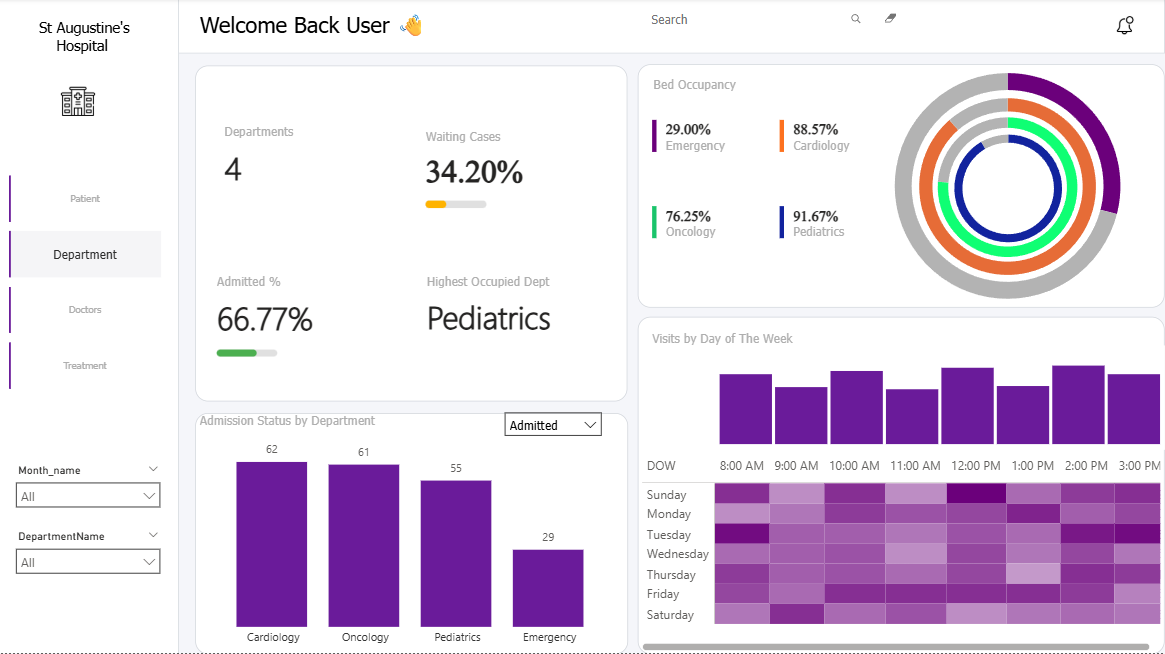

The dashboard page shown, as its layout file describes it:
{"tool":"powerbi","page":{"name":"Department","canvas":[1280,720],"ordinal":1},"visuals":[{"type":"shape","box":[215.4,74.1,474.8,369.1],"z":0},{"type":"shape","box":[215.2,455.3,475.2,265],"z":1000},{"type":"shape","box":[701.6,349.6,578.4,370.7],"z":2000},{"type":"shape","box":[0,0,1280,61],"z":3000},{"type":"shape","box":[0,0,197.6,720.4],"z":4000},{"type":"textbox","box":[215.2,8.7,571,43.5],"z":5000},{"type":"textbox","box":[23.6,17.4,140.6,70.9],"z":6000},{"type":"pageNavigator","box":[11,194.9,167.4,236],"z":7000},{"type":"clusteredColumnChart","fields":{"Y":["CountNonNull(FactTable.VisitID)"],"Category":["FactTable.Fomatted Hour"]},"box":[786.2,381.9,493.9,114.4],"z":8000},{"type":"cardVisual","fields":{"Data":["CountNonNull(Department_Dim.DepartmentID)"]},"box":[230.5,87.8,211.3,171.5],"z":9000},{"type":"cardVisual","fields":{"Data":["Calculations.Waiting %"]},"box":[451.6,103.2,220.2,170.4],"z":10000},{"type":"cardVisual","fields":{"Data":["Min(Department_Dim.DepartmentName)"]},"box":[452.8,256.3,220.2,161.7],"z":11000},{"type":"cardVisual","fields":{"Data":["Calculations.Admitted %"]},"box":[222.3,269,219.6,161.9],"z":12000},{"type":"textbox","box":[711.5,359.5,165.4,43.5],"z":13000},{"type":"shape","box":[701.6,73.4,578.4,267.5],"z":14000},{"type":"columnChart","title":"Admission Status by Department","fields":{"Y":["CountNonNull(FactTable.VisitID)"],"Category":["Department_Dim.DepartmentName"]},"box":[215.2,455.3,475.2,265],"z":15000},{"type":"slicer","fields":{"Values":["FactTable.AdmissionStatus"]},"box":[544.9,444.1,126.9,41.1],"z":16000},{"type":"pivotTable","fields":{"Rows":["Calendar.DOW"],"Values":["CountNonNull(FactTable.VisitID)"],"Columns":["FactTable.Fomatted Hour"]},"box":[701.6,496.3,578.4,225.2],"z":17000},{"type":"donutChart","fields":{"Y":["Calculations.Admitted %","Calculations.Admitted % diff"]},"box":[934.5,46.7,345.8,319.7],"z":17750},{"type":"donutChart","fields":{"Y":["Calculations.Admitted %","Calculations.Admitted % diff"]},"box":[961.9,81,290.9,252.5],"z":18500},{"type":"donutChart","fields":{"Y":["Calculations.Admitted %","Calculations.Admitted % diff"]},"box":[1000.3,107,214.1,201.7],"z":20000},{"type":"donutChart","fields":{"Y":["Calculations.Admitted %","Calculations.Admitted % diff"]},"box":[1029.2,129,157.8,160.5],"z":21000},{"type":"multiRowCard","fields":{"Values":["Calculations.Admitted %"]},"box":[852.1,129,109.8,65.9],"z":23000},{"type":"multiRowCard","fields":{"Values":["Calculations.Admitted %"]},"box":[712.2,223.7,109.8,65.9],"z":24000},{"type":"multiRowCard","fields":{"Values":["Calculations.Admitted %"]},"box":[852.1,223.7,109.8,65.9],"z":25000},{"type":"image","box":[1220.3,14.9,32.3,29.9],"z":26000},{"type":"textbox","box":[713.6,81,164.7,43.9],"z":27000},{"type":"image","box":[63.4,88.3,47.3,51],"z":28000},{"type":"textFilter25A4896A83E0487089E2B90C9AE57C8A","fields":{"field":["Patient_Dim.PatientID"]},"box":[701.6,0,301,41.1],"z":29000},{"type":"slicer","fields":{"Values":["Calendar.Month_name"]},"box":[8.7,506.3,179.1,58.5],"z":30000},{"type":"slicer","fields":{"Values":["Department_Dim.DepartmentName"]},"box":[8.7,579.7,179.1,58.5],"z":31000},{"type":"multiRowCard","fields":{"Values":["Calculations.Admitted %"]},"box":[712.2,129,109.8,65.9],"z":31500},{"type":"card","fields":{"Values":["Calculations.Total admitted MOM"]},"box":[332.1,368.2,105.7,33.6],"z":31501},{"type":"card","fields":{"Values":["Calculations.Total waiting MOM"]},"box":[562.3,207.7,105.7,33.6],"z":31502}]}

Visuals, with their boxes on the page's 1280x720 design canvas (x1, y1, x2, y2). These are canvas units, not pixel positions in the 1165x654 screenshot, which may show the page scaled, cropped or inside an application window:
shape: [x1=215, y1=74, x2=690, y2=443]
shape: [x1=215, y1=455, x2=690, y2=720]
shape: [x1=702, y1=350, x2=1280, y2=720]
shape: [x1=0, y1=0, x2=1280, y2=61]
shape: [x1=0, y1=0, x2=198, y2=720]
textbox: [x1=215, y1=9, x2=786, y2=52]
textbox: [x1=24, y1=17, x2=164, y2=88]
pageNavigator: [x1=11, y1=195, x2=178, y2=431]
clusteredColumnChart - CountNonNull(FactTable.VisitID) x FactTable.Fomatted Hour: [x1=786, y1=382, x2=1280, y2=496]
cardVisual - CountNonNull(Department_Dim.DepartmentID): [x1=230, y1=88, x2=442, y2=259]
cardVisual - Calculations.Waiting %: [x1=452, y1=103, x2=672, y2=274]
cardVisual - Min(Department_Dim.DepartmentName): [x1=453, y1=256, x2=673, y2=418]
cardVisual - Calculations.Admitted %: [x1=222, y1=269, x2=442, y2=431]
textbox: [x1=712, y1=360, x2=877, y2=403]
shape: [x1=702, y1=73, x2=1280, y2=341]
"Admission Status by Department" columnChart: [x1=215, y1=455, x2=690, y2=720]
slicer - FactTable.AdmissionStatus: [x1=545, y1=444, x2=672, y2=485]
pivotTable - Calendar.DOW x CountNonNull(FactTable.VisitID): [x1=702, y1=496, x2=1280, y2=722]
donutChart - Calculations.Admitted % x Calculations.Admitted % diff: [x1=934, y1=47, x2=1280, y2=366]
donutChart - Calculations.Admitted % x Calculations.Admitted % diff: [x1=962, y1=81, x2=1253, y2=334]
donutChart - Calculations.Admitted % x Calculations.Admitted % diff: [x1=1000, y1=107, x2=1214, y2=309]
donutChart - Calculations.Admitted % x Calculations.Admitted % diff: [x1=1029, y1=129, x2=1187, y2=290]
multiRowCard - Calculations.Admitted %: [x1=852, y1=129, x2=962, y2=195]
multiRowCard - Calculations.Admitted %: [x1=712, y1=224, x2=822, y2=290]
multiRowCard - Calculations.Admitted %: [x1=852, y1=224, x2=962, y2=290]
image: [x1=1220, y1=15, x2=1253, y2=45]
textbox: [x1=714, y1=81, x2=878, y2=125]
image: [x1=63, y1=88, x2=111, y2=139]
textFilter25A4896A83E0487089E2B90C9AE57C8A - Patient_Dim.PatientID: [x1=702, y1=0, x2=1003, y2=41]
slicer - Calendar.Month_name: [x1=9, y1=506, x2=188, y2=565]
slicer - Department_Dim.DepartmentName: [x1=9, y1=580, x2=188, y2=638]
multiRowCard - Calculations.Admitted %: [x1=712, y1=129, x2=822, y2=195]
card - Calculations.Total admitted MOM: [x1=332, y1=368, x2=438, y2=402]
card - Calculations.Total waiting MOM: [x1=562, y1=208, x2=668, y2=241]
